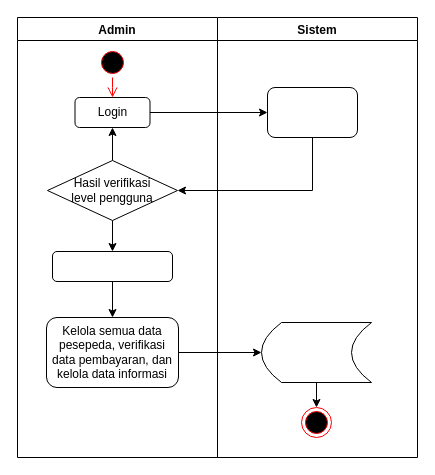
This 435x475 diagram has some shape labels left out. The shapes that lost their labels are listed below. From the top down, each one's box as (x1, y1, x2, y2) in pixels, then its label:
(266, 86, 358, 138): Verifikasi level pengguna
(52, 250, 172, 282): Halaman admin
(260, 322, 372, 382): Penyimpanan data
